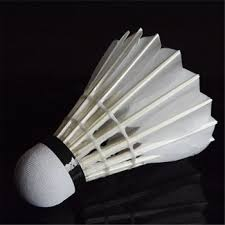shuttle: (17, 25, 219, 207)
